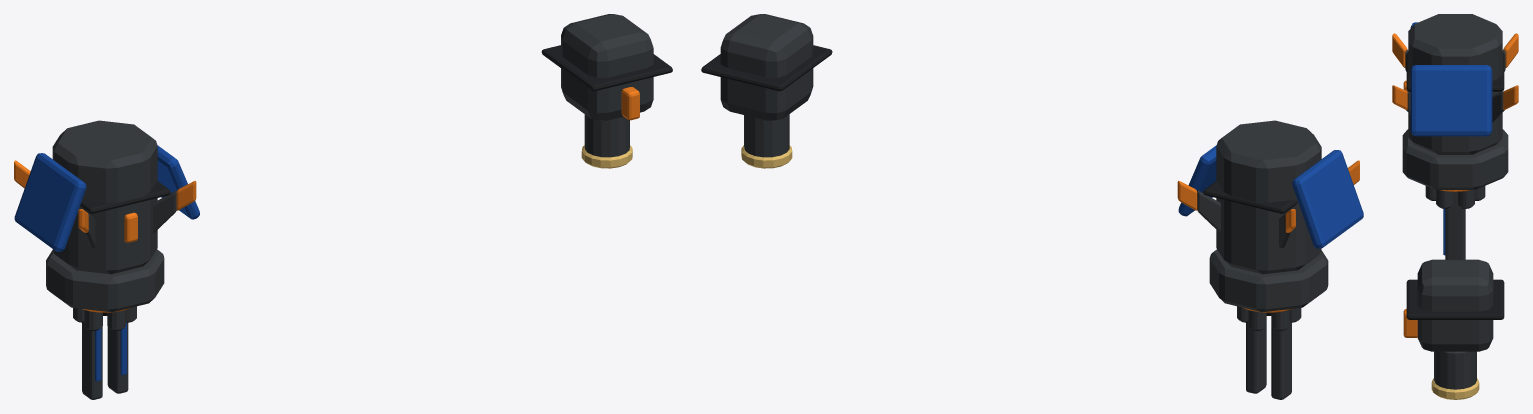
The model's file is armas.glb.
The picture shows the model from 3 angles, left to right: view 1: azimuth 30°, elevation 25°; view 2: azimuth 150°, elevation 25°; view 3: azimuth 270°, elevation 25°; orthographic projection. The views are drawn at different scales.
Parts seen in each view (by area): view 1: arma_corpo.002, arma_corpo.001, arma_boca, arma_placa, arma_cano.001, vao.001, arma_trilho, arma_placa.001, arma_trilho.001, vao, arma_aleta, arma_aro.001 (+1 smaller); view 2: arma_corpo.002, arma_corpo.001, arma_boca, arma_placa, arma_cano.001, vao.001, arma_trilho, arma_trilho.001, arma_placa.001, vao, arma_aleta.003, arma_aro.001; view 3: arma_corpo.002, arma_corpo.001, arma_placa.001, arma_boca, vao.001, arma_cano.001, arma_trilho.001, arma_aro.001, vao, arma_aleta_ponta.001, arma_aleta_ponta.002, arma_mira.001 (+8 smaller).
Boxes of the visible parts, <box> form: arma_corpo.002: <box>52,120,157,274</box>; arma_corpo.001: <box>561,14,653,120</box>; arma_boca: <box>46,249,164,312</box>; arma_placa: <box>14,153,86,251</box>; arma_cano.001: <box>584,114,629,157</box>; vao.001: <box>541,45,672,91</box>; arma_trilho: <box>82,322,102,399</box>; arma_placa.001: <box>157,145,199,219</box>; arma_trilho.001: <box>107,322,128,393</box>; vao: <box>80,181,170,213</box>; arma_aleta: <box>153,190,176,233</box>; arma_aro.001: <box>581,145,632,168</box>; arma_corpo.002: <box>1216,120,1321,274</box>; arma_corpo.001: <box>720,14,813,120</box>; arma_boca: <box>1209,249,1328,312</box>; arma_placa: <box>1292,150,1363,248</box>; arma_cano.001: <box>744,114,789,157</box>; vao.001: <box>701,45,832,91</box>; arma_trilho: <box>1271,322,1291,399</box>; arma_trilho.001: <box>1246,322,1266,393</box>; arma_placa.001: <box>1178,145,1216,216</box>; vao: <box>1203,181,1297,213</box>; arma_aleta.003: <box>1197,190,1220,233</box>; arma_aro.001: <box>741,145,792,168</box>; arma_corpo.002: <box>1408,14,1502,154</box>; arma_corpo.001: <box>1417,259,1493,351</box>; arma_placa.001: <box>1410,65,1492,136</box>; arma_boca: <box>1402,129,1508,189</box>; vao.001: <box>1406,279,1504,319</box>; arma_cano.001: <box>1434,351,1476,389</box>; arma_trilho.001: <box>1445,191,1465,259</box>; arma_aro.001: <box>1431,378,1479,399</box>; vao: <box>1406,52,1504,91</box>; arma_aleta_ponta.001: <box>1392,33,1407,67</box>; arma_aleta_ponta.002: <box>1503,33,1518,67</box>; arma_mira.001: <box>1403,309,1417,337</box>.
Bounding box in the file's own units: 0.6498 × 0.255 × 0.1241.
